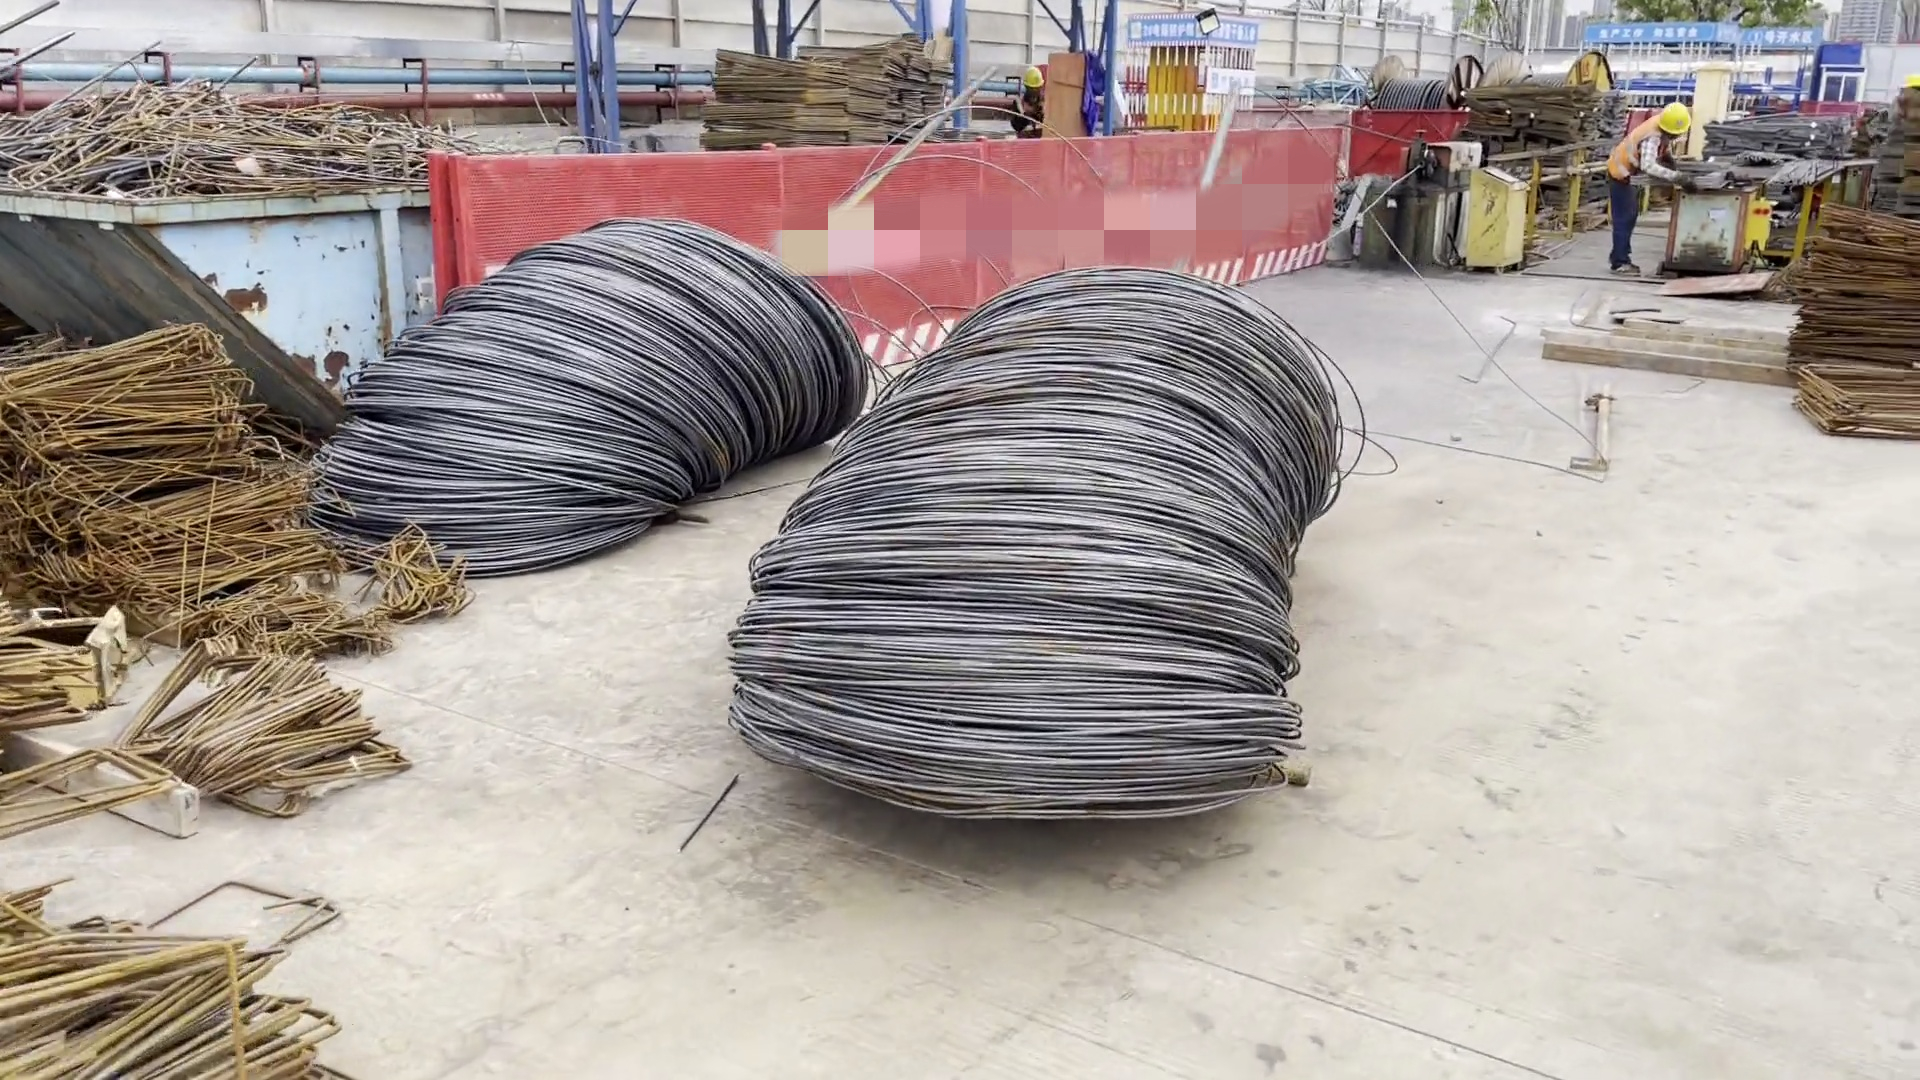cutter: (1658, 172, 1772, 277)
ebox: (1131, 42, 1237, 137), (1461, 154, 1533, 284), (1691, 66, 1741, 157)
fence: (399, 122, 1346, 361), (1338, 103, 1473, 169)
helmet: (1654, 96, 1696, 138)
hopper: (4, 174, 440, 415)
person: (1593, 80, 1697, 280)
slogan: (1581, 12, 1813, 57), (1114, 12, 1261, 47)
vest: (1598, 116, 1652, 203)
